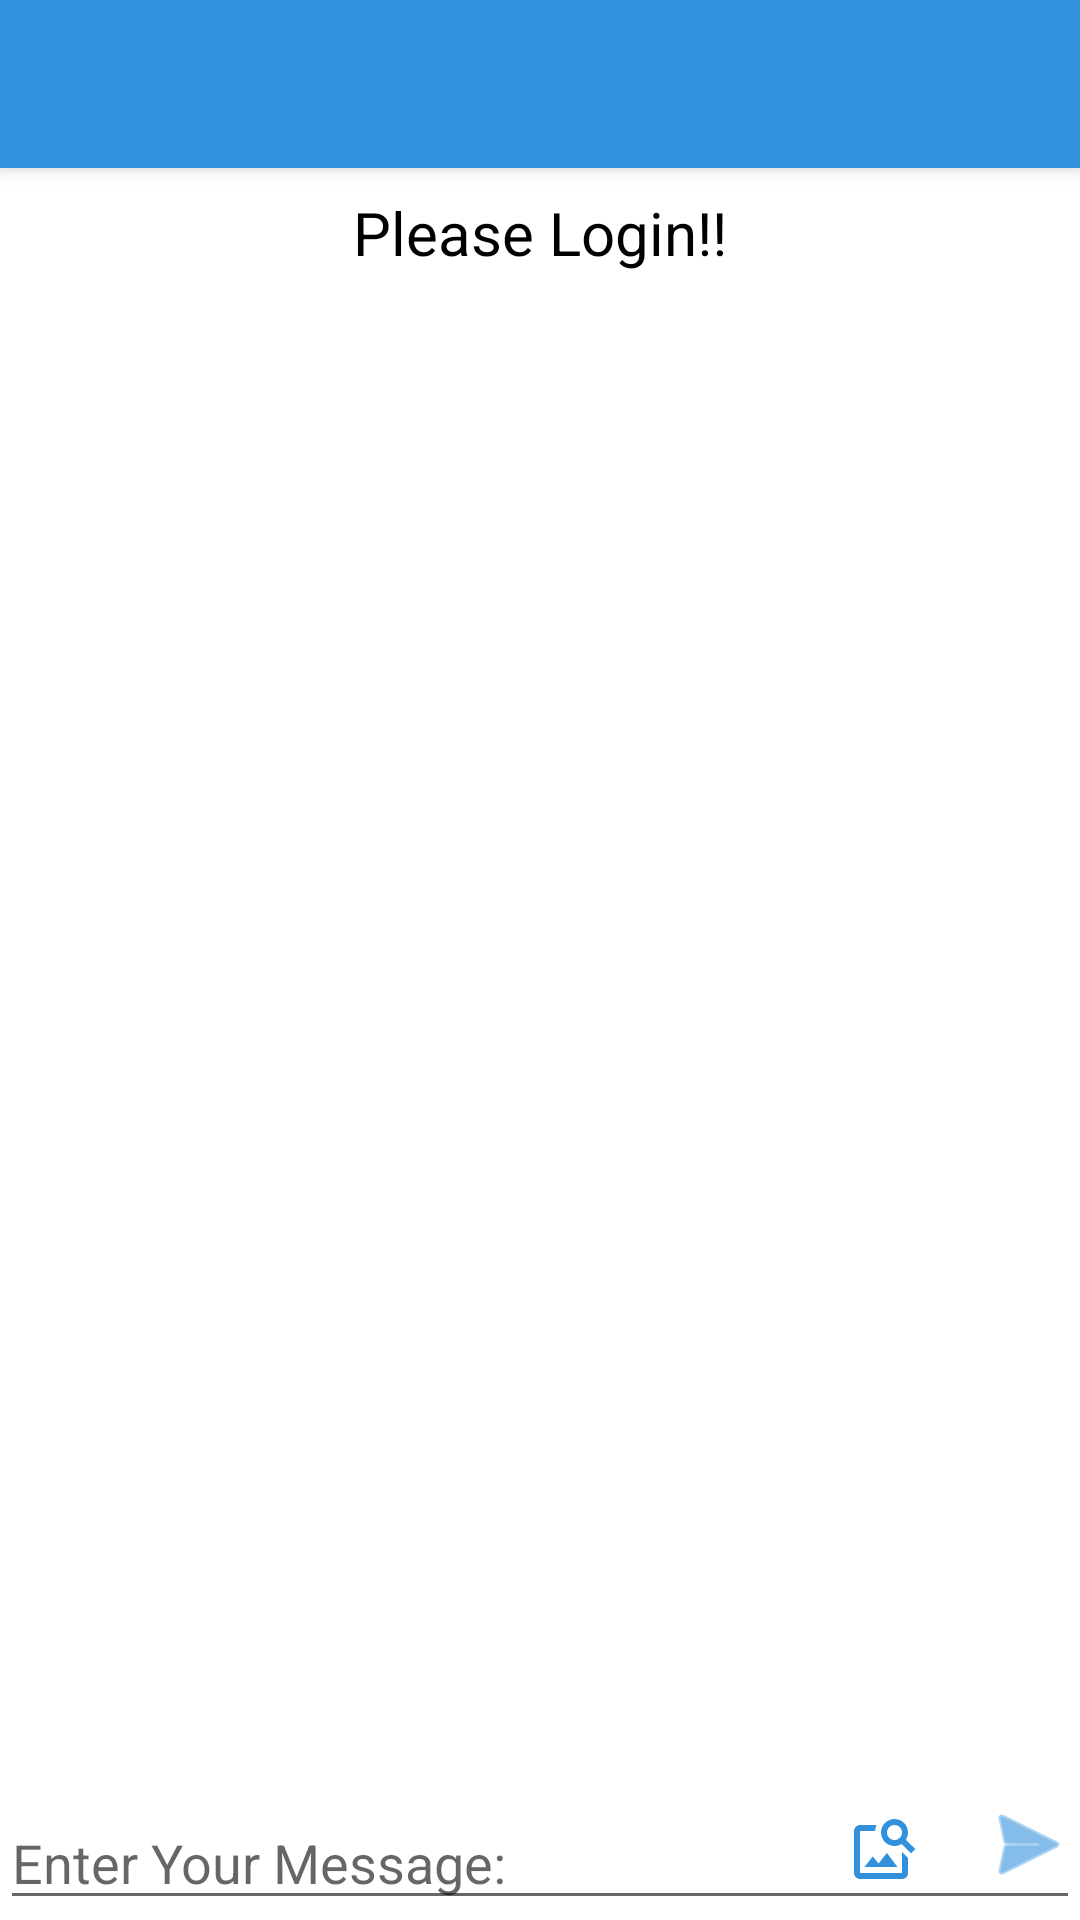

Icons on this 1080 × 1920 Android screen, each with its box as [x1, y1, x2, y2]:
search: [854, 1819, 915, 1879]
send: [998, 1814, 1060, 1875]
